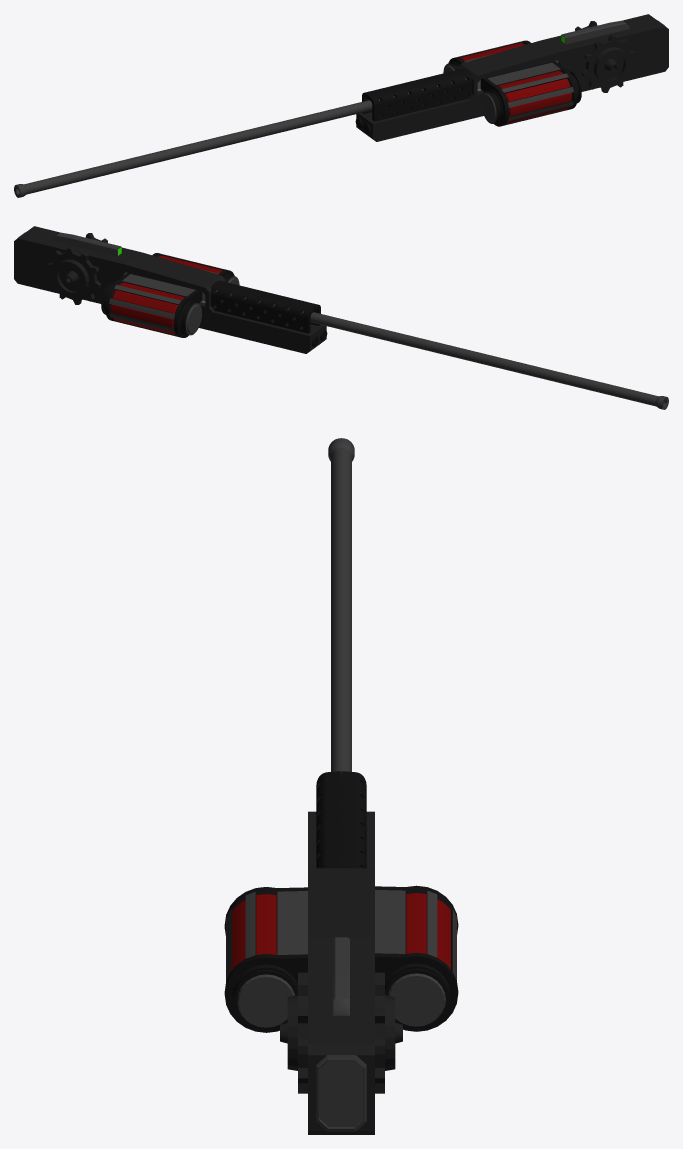
File: 50mmAA.fbx
3 renders of one model, top to bottom at view 1: azimuth 30°, elevation 25°; view 2: azimuth 150°, elevation 25°; view 3: azimuth 270°, elevation 25°, orthographic. The views are drawn at different scales.
Visible parts, largest first — view 1: Main, Cone028, Barrel, jok, Box005, Cone002; view 2: Main, Cone002, Barrel, jok001, Box005, Cone028; view 3: Main, Cone002, Cone028, Barrel, Box006, jok001, jok, Box005.
Part boxes in pixels (box(x1,y1,x2,y2)): Main: box(355, 14, 668, 141); Cone028: box(480, 61, 581, 126); Barrel: box(14, 78, 466, 197); jok: box(581, 35, 636, 92); Box005: box(561, 20, 629, 44); Cone002: box(443, 40, 530, 73); Main: box(14, 226, 327, 353); Cone002: box(101, 272, 202, 337); Barrel: box(216, 290, 668, 409); jok001: box(46, 247, 101, 304); Box005: box(53, 232, 121, 256); Cone028: box(152, 253, 239, 285); Main: box(308, 771, 374, 1134); Cone002: box(375, 885, 458, 1031); Cone028: box(224, 887, 307, 1032); Barrel: box(328, 438, 354, 774); Box006: box(316, 1055, 366, 1131); jok001: box(375, 972, 402, 1093); jok: box(280, 972, 307, 1093); Box005: box(333, 937, 349, 1015).
Bounding box in the file's own units: 1785 × 152 × 280.
